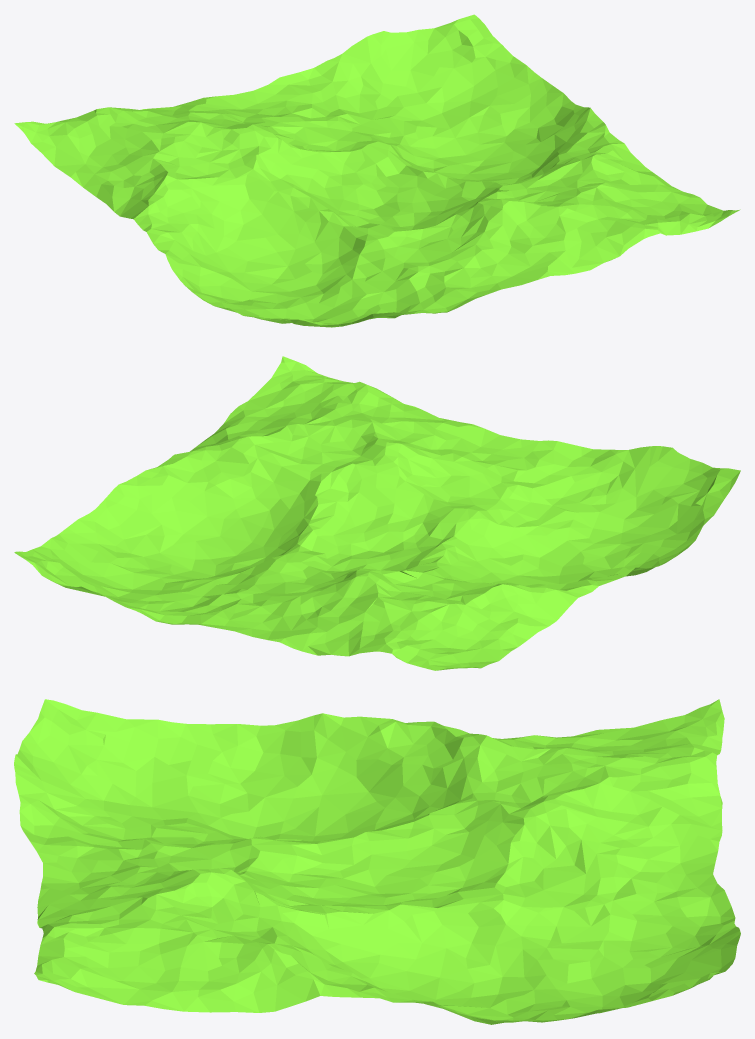
Rendered from terrain1.fbx.
3 views of the same model, one above another, from view 1: azimuth 30°, elevation 25°; view 2: azimuth 150°, elevation 25°; view 3: azimuth 270°, elevation 25° (orthographic). The views are drawn at different scales.
Visible parts, largest first — view 1: terrain1; view 2: terrain1; view 3: terrain1.
Boxes of the visible parts, x1=… form: terrain1: x1=14, y1=14, x2=740, y2=327; terrain1: x1=14, y1=356, x2=740, y2=670; terrain1: x1=14, y1=699, x2=740, y2=1024.
Bounding box in the file's own units: 37.24 × 4.35 × 38.55.
